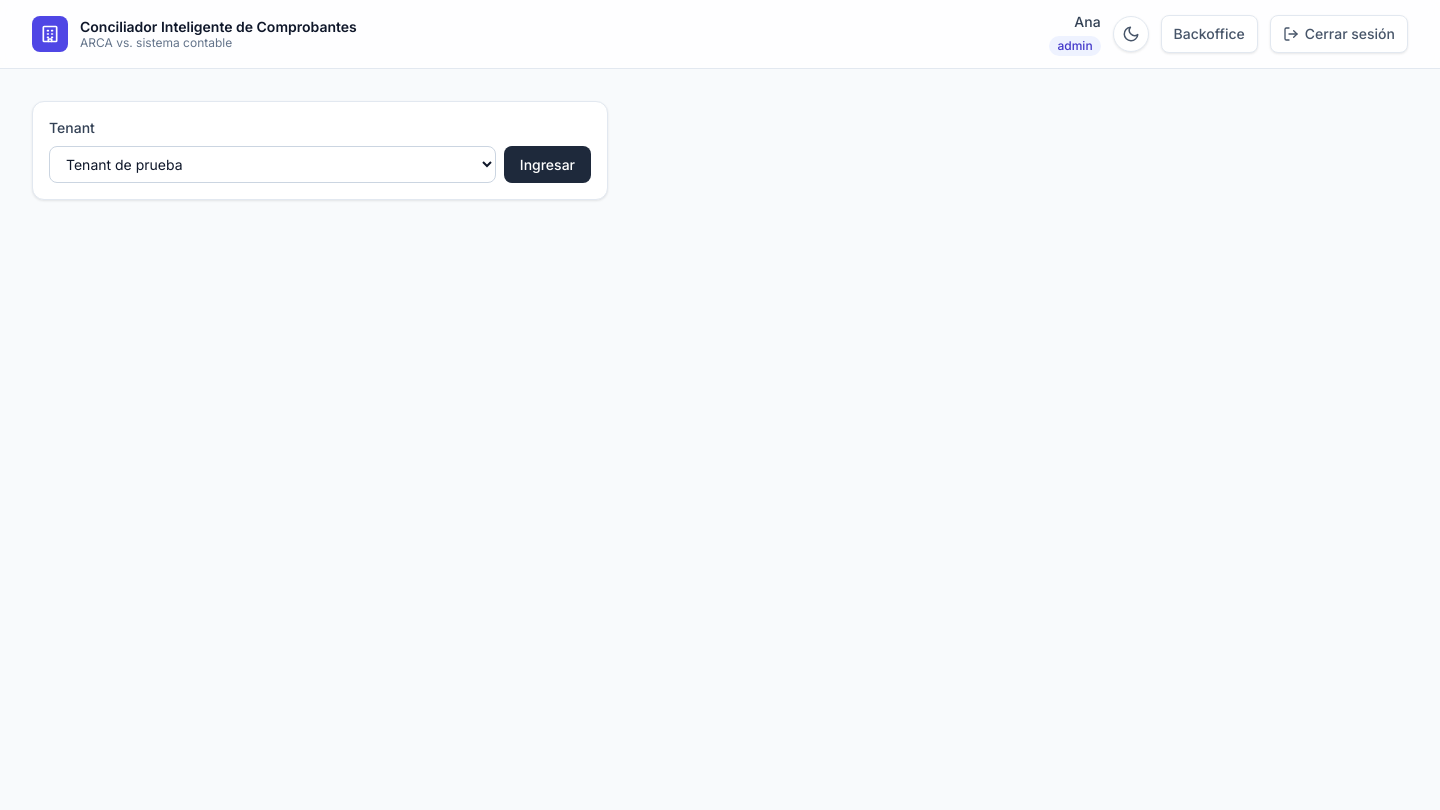
Test: view state machine: dashboard | circuit | report | pendientes-historico › navigates to circuit view via "Ver reporte" (RF-24/RF-26 round-trip)
Select "Tenant de prueba" in the dropdown labelled "Tenant" at [272, 164], box [49,146,496,183]
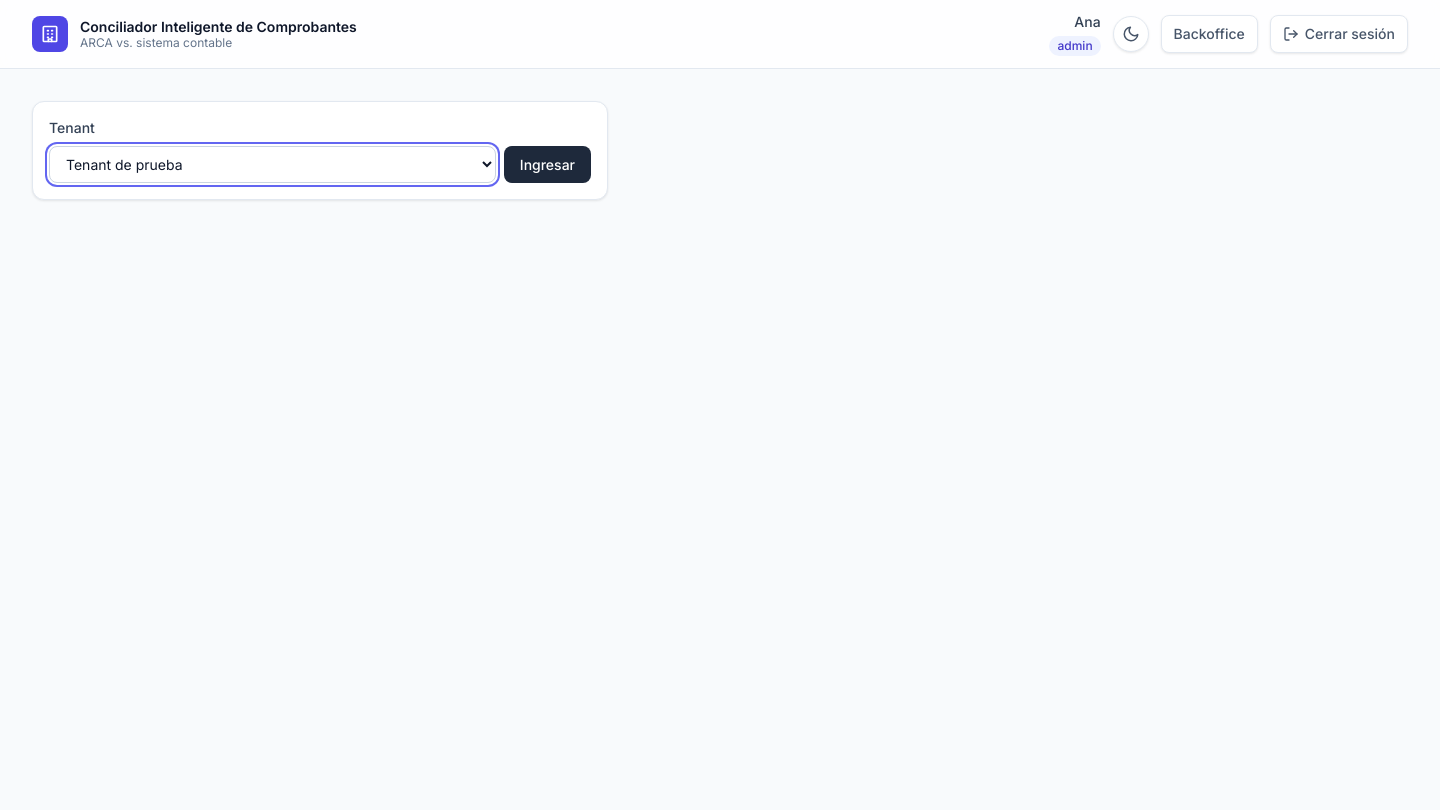
Click the button "Ingresar".
click(547, 164)  # box [504,146,591,183]
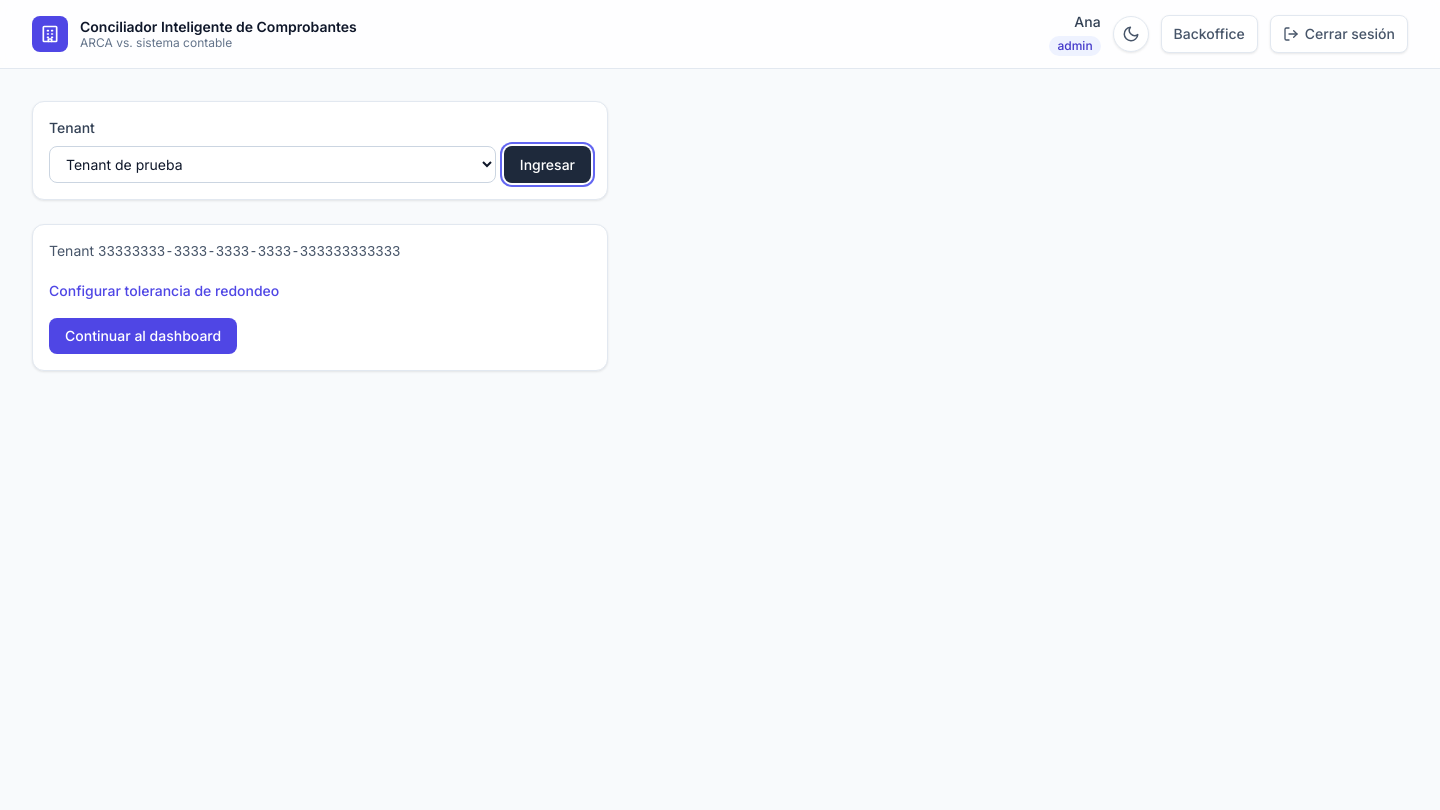
Click the button "Continuar al dashboard".
click(143, 336)  # box [49,318,237,354]
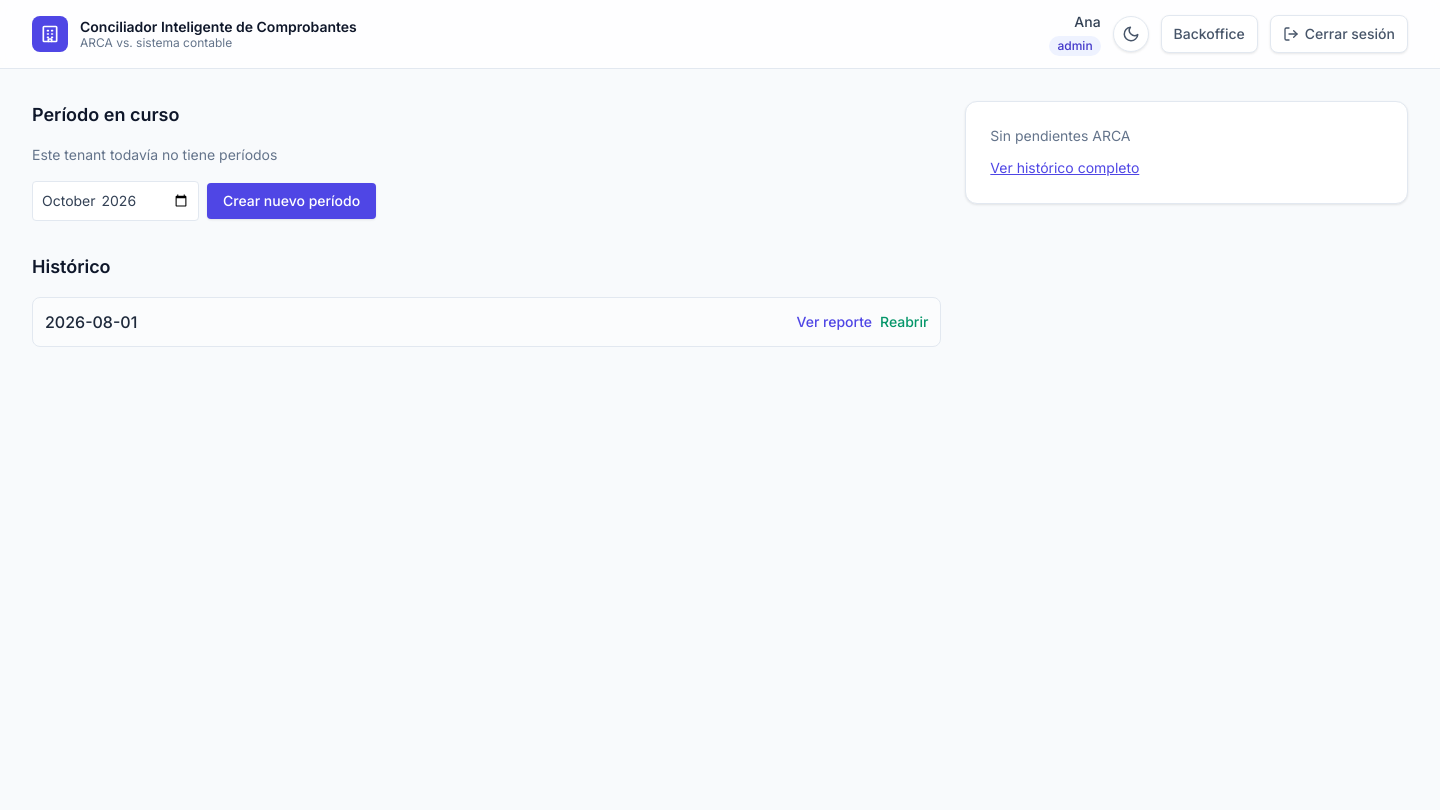
Click the button "Ver reporte".
click(834, 322)  # box [796,312,872,332]
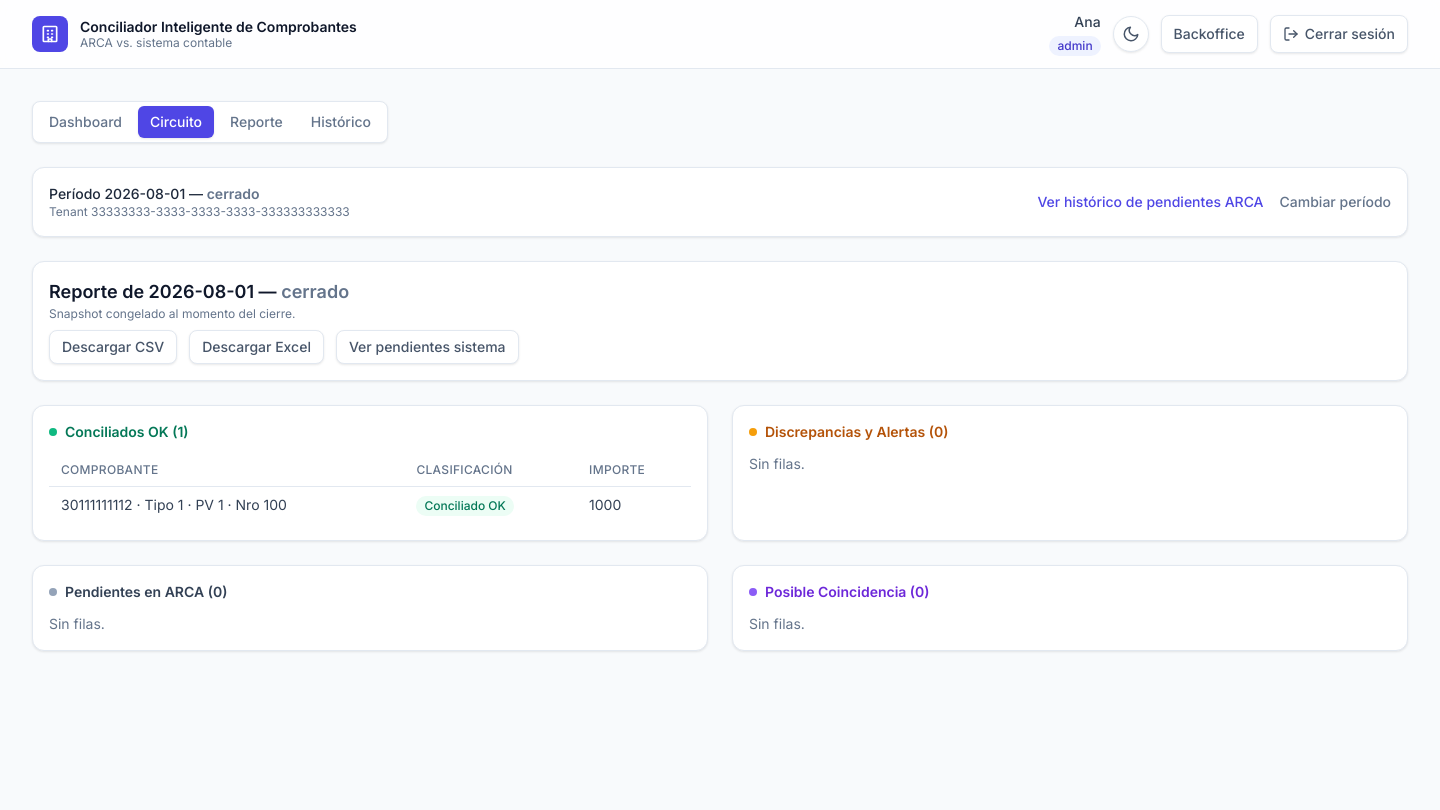
Expected: the text "Período 2026-08-01 — cerrado" is shown, [49,185,260,202]
